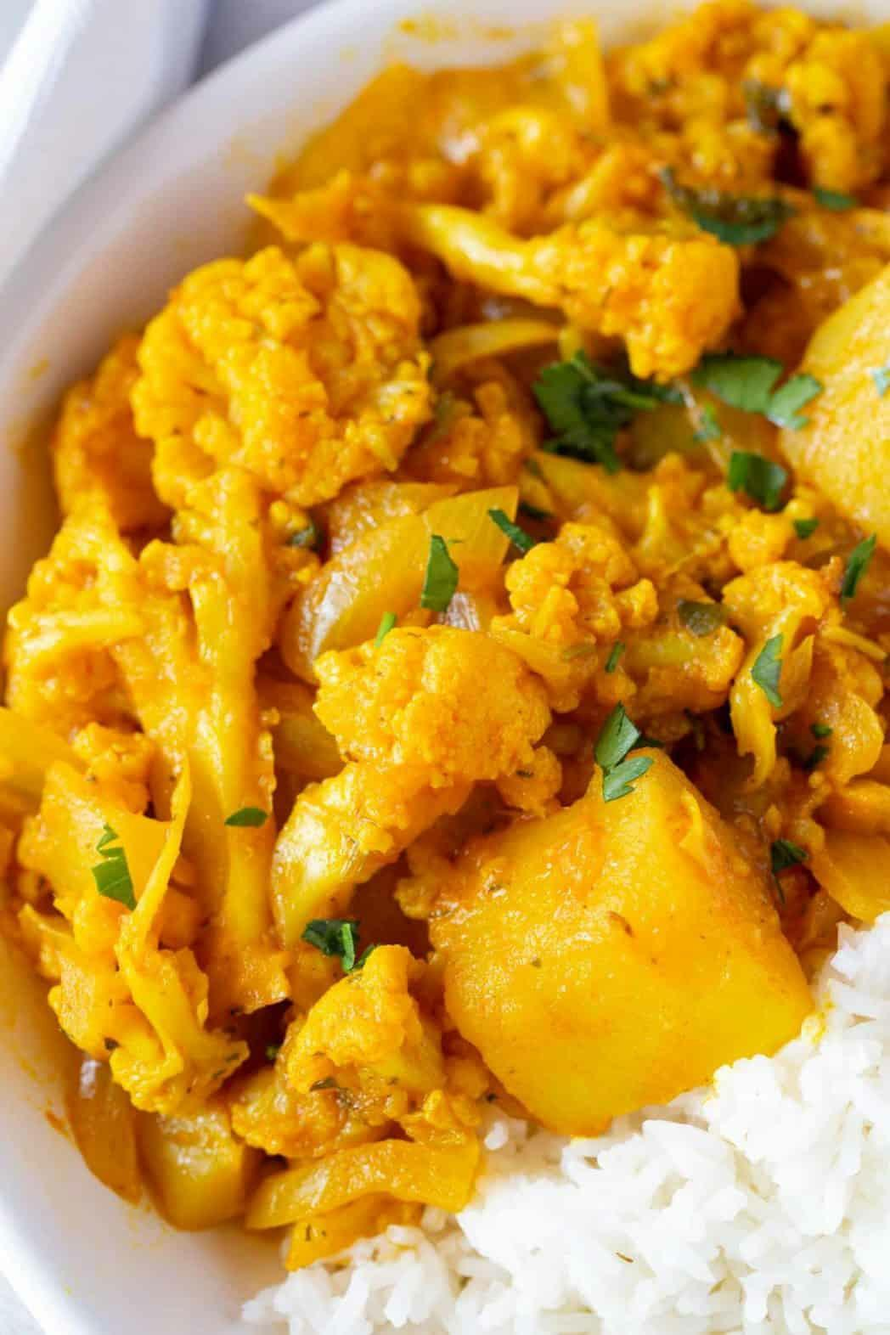AlooGobi: (4, 0, 890, 1271)
WhiteRice: (236, 913, 890, 1335)
